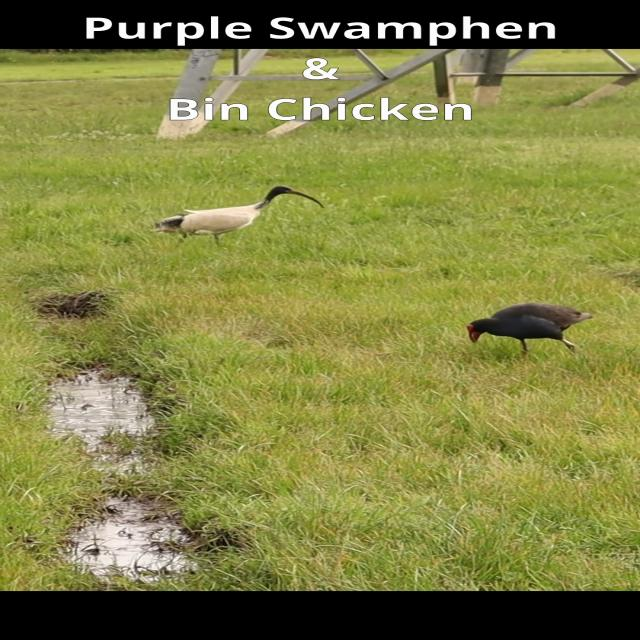Birds-Ibis: (148, 183, 331, 254)
Birds-Other: (464, 298, 599, 364)
